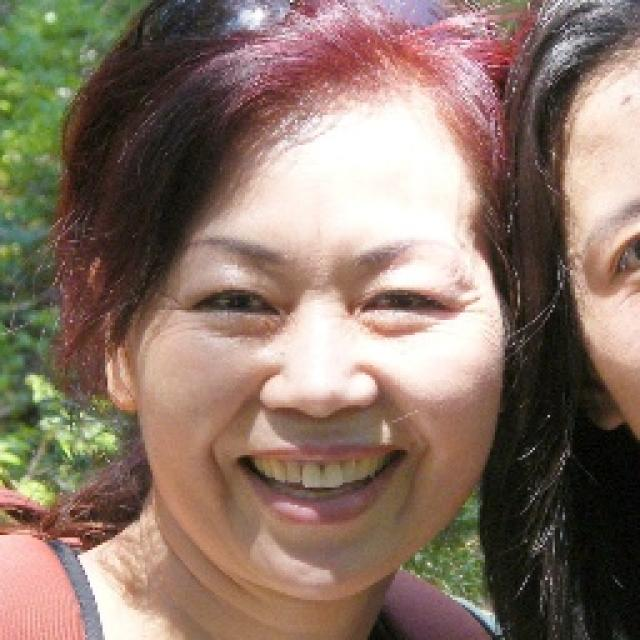earlobe: (584, 384, 622, 432), (105, 350, 134, 412)
eye: (188, 284, 288, 320), (362, 285, 450, 319), (613, 235, 640, 275)
nose: (264, 396, 375, 437)
wholeear: (86, 257, 134, 413)
